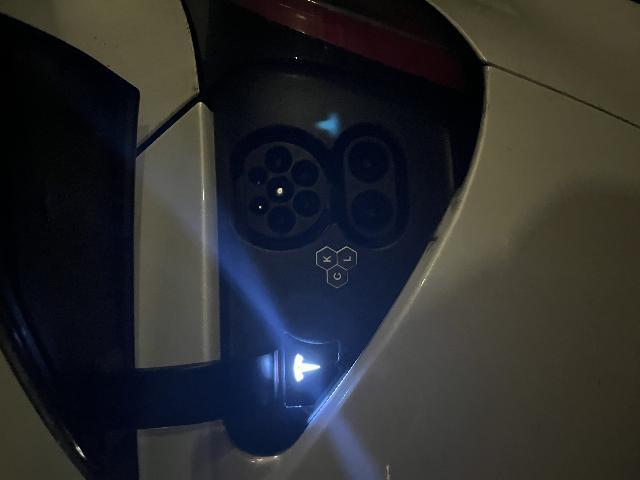inlet: (242, 243, 338, 327)
inlet-above-left: (265, 249, 285, 269)
inlet-above-right: (294, 248, 315, 267)
inlet-below-left: (263, 292, 291, 321)
inlet-below-right: (293, 291, 321, 320)
inlet-circle: (276, 265, 304, 294)
inlet-circle-left: (247, 268, 275, 295)
inlet-circle-right: (306, 264, 334, 293)
inlet-minus: (297, 348, 339, 389)
inlet-plus: (247, 351, 290, 392)
